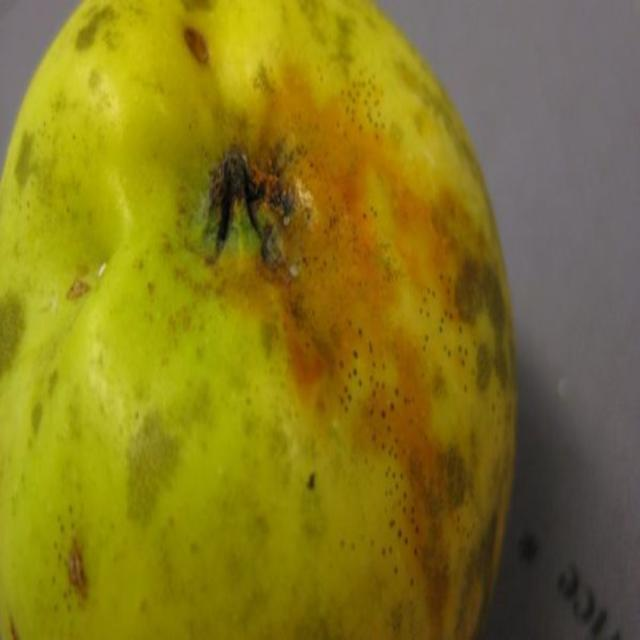Rotten Apple: (0, 19, 552, 637)
